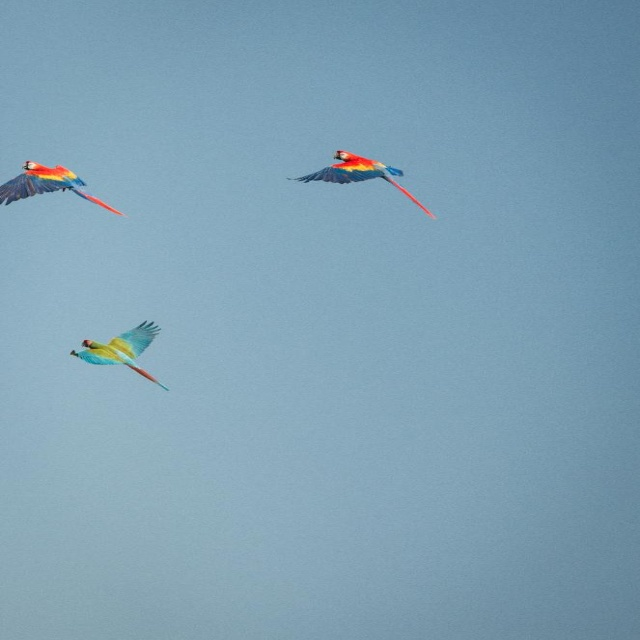Parrot: (287, 151, 437, 220), (0, 160, 129, 217), (69, 320, 170, 391)
